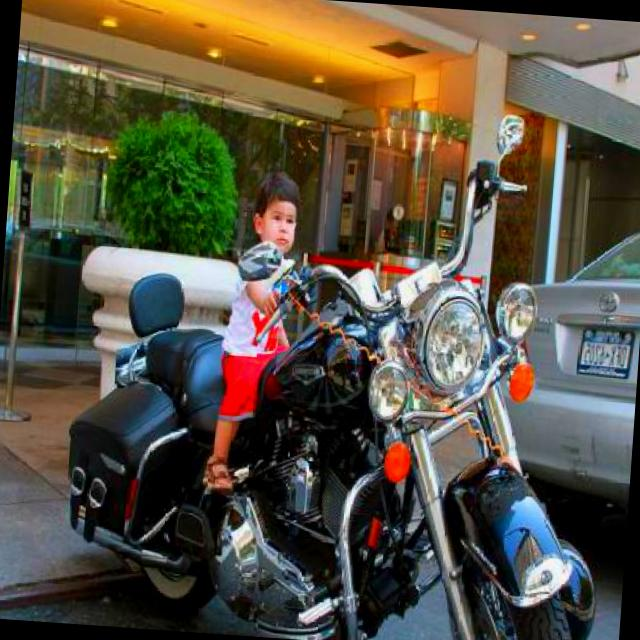Person: (203, 168, 304, 494), (377, 203, 408, 254)
